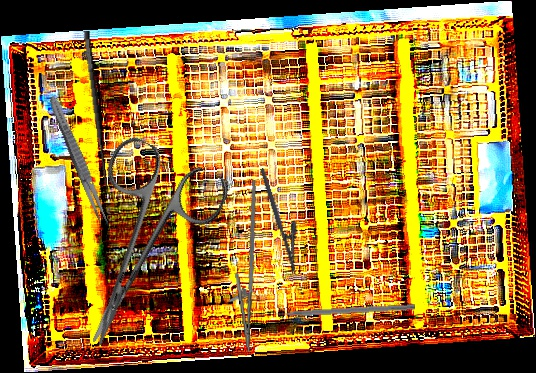Chopper: (265, 296, 416, 318)
Dressing Forceps: (45, 93, 113, 230)
Hook Surgical: (81, 28, 123, 197)
Iris Scissors: (37, 131, 234, 368)
Needle Holder: (219, 180, 271, 353), (259, 163, 311, 275)
